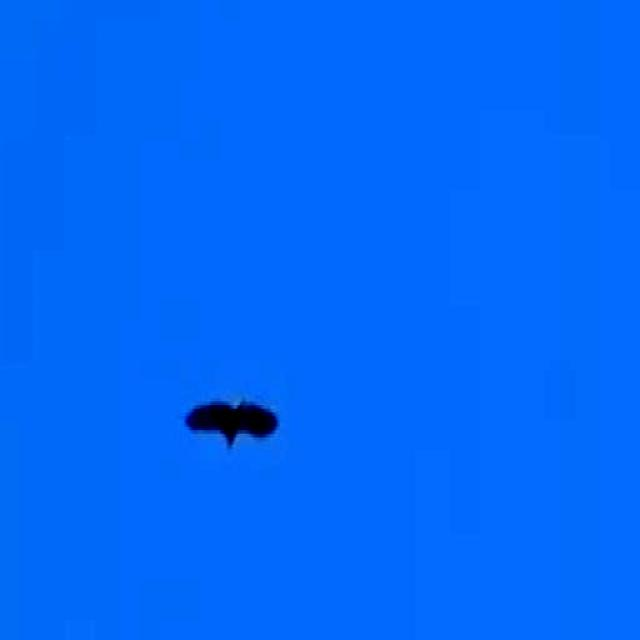airplane: (176, 371, 285, 478)
